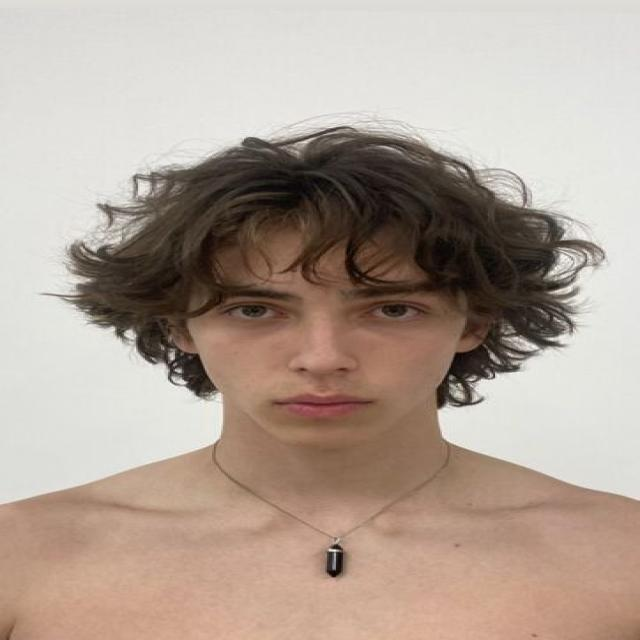Nonhelmet: (74, 121, 586, 457)
